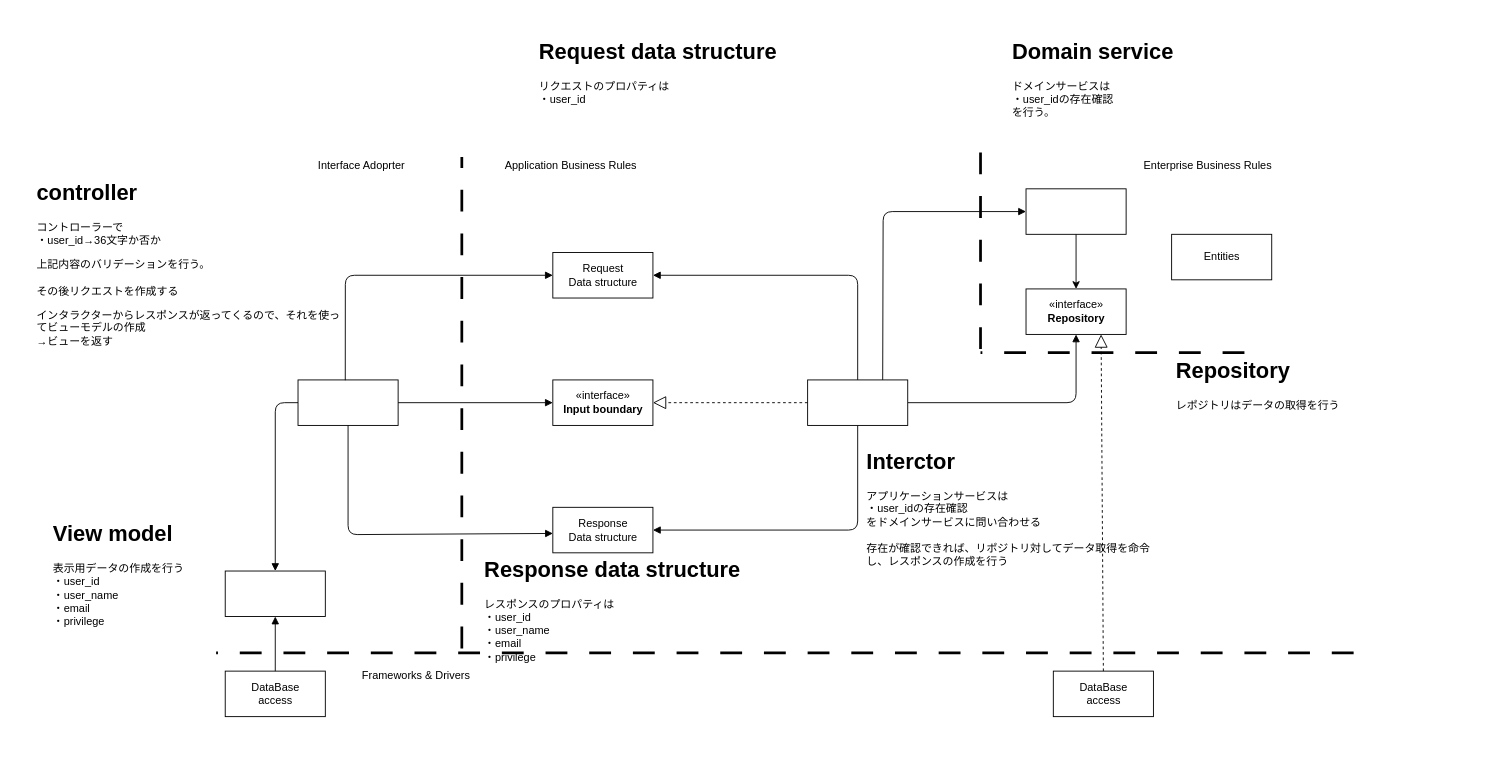
This 1487x759 diagram has some shape labels left out. The shapes that lost their labels are listed below. From the top down, each one's centre as x and y in pixels, then its label:
At pixel 1075 211: "Domain Service".
At pixel 347 402: "Controller".
At pixel 857 402: "«interface» Create UseCase".
At pixel 274 593: "ViewModel Data structure".
